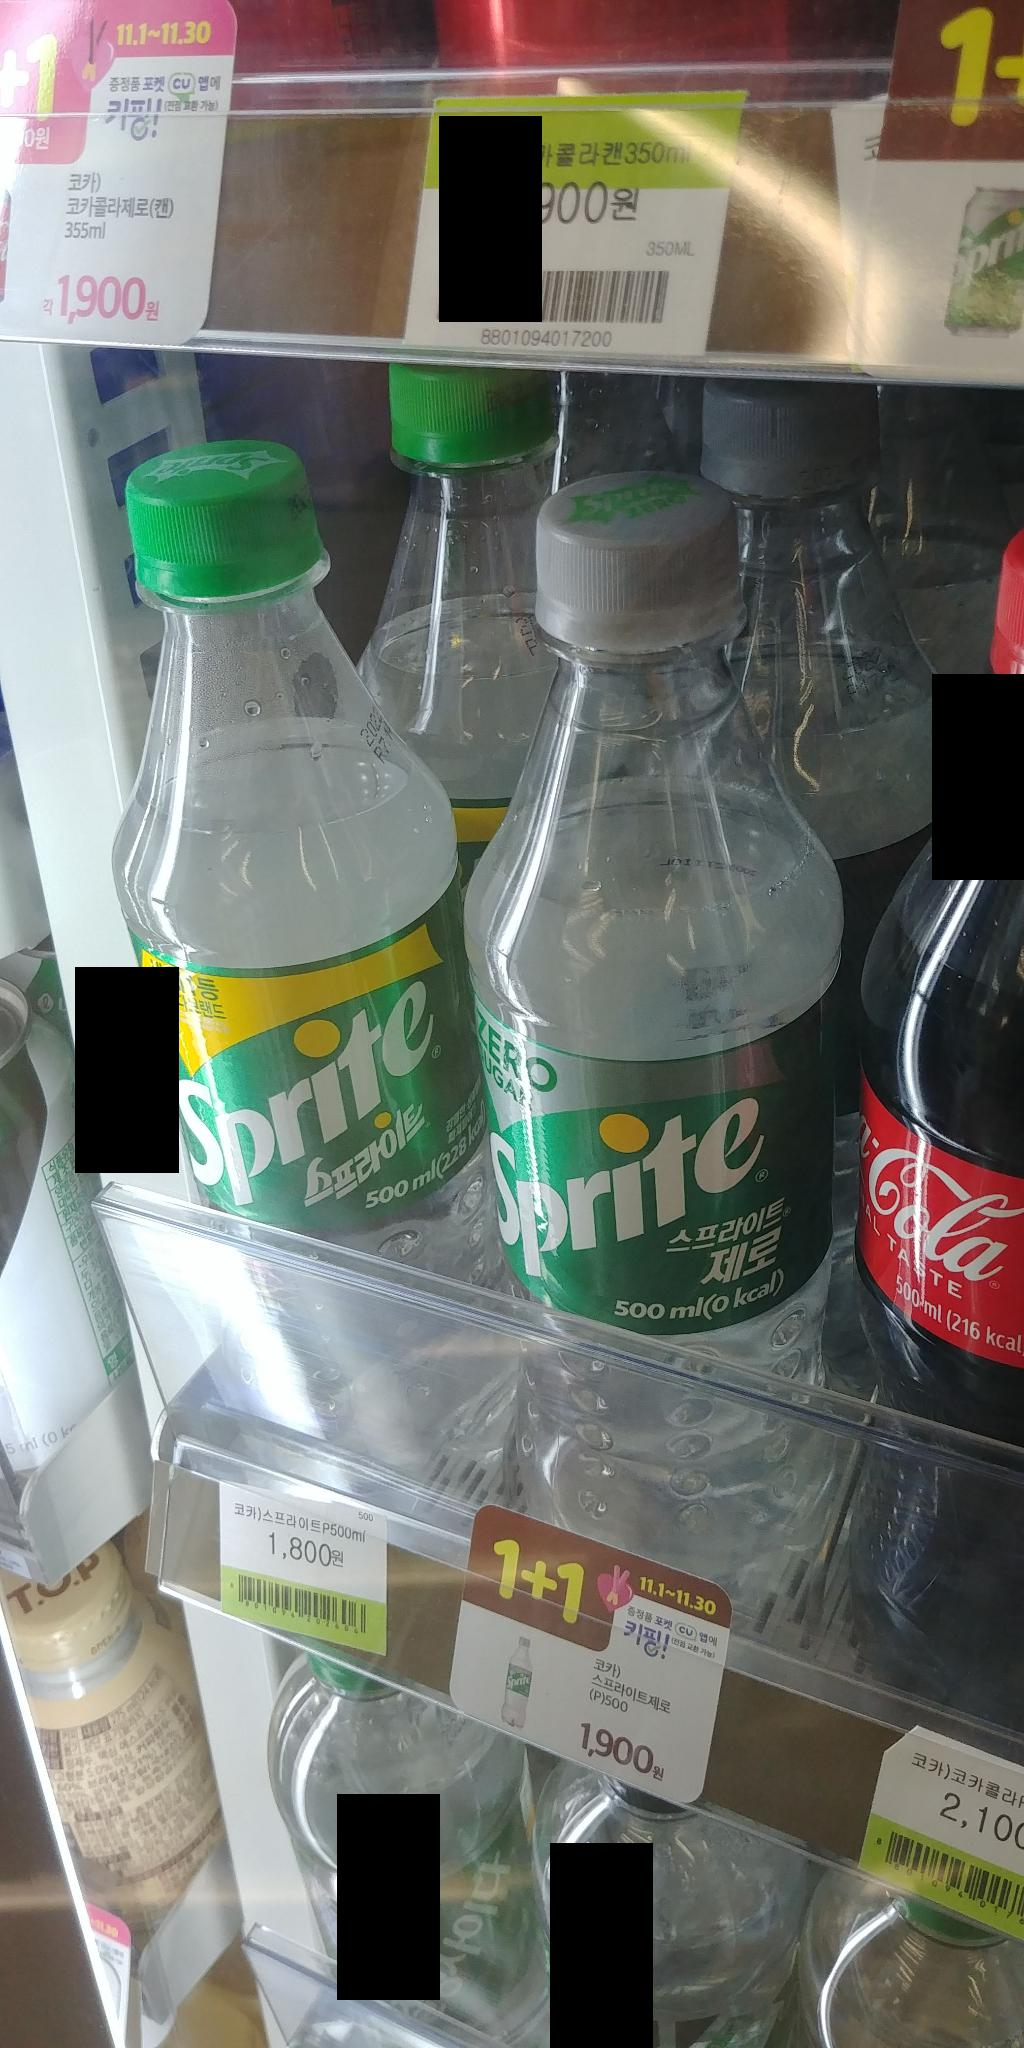sprite_zero: (451, 477, 876, 1565)
